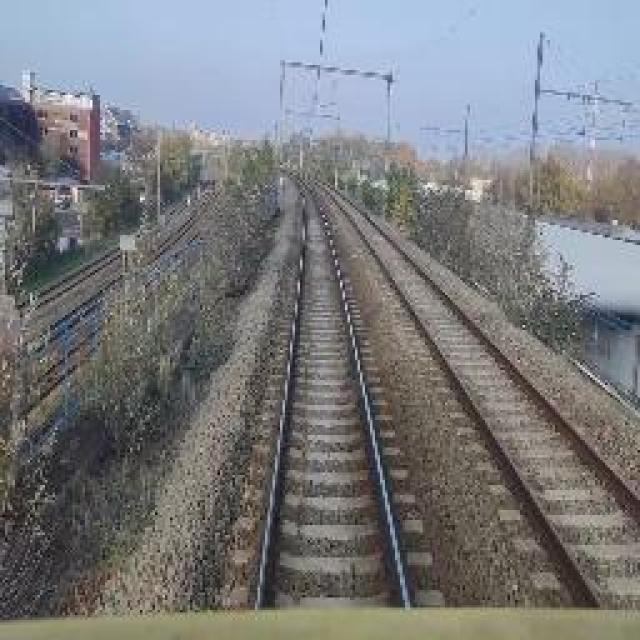rail: (301, 176, 640, 611), (215, 173, 448, 612)
